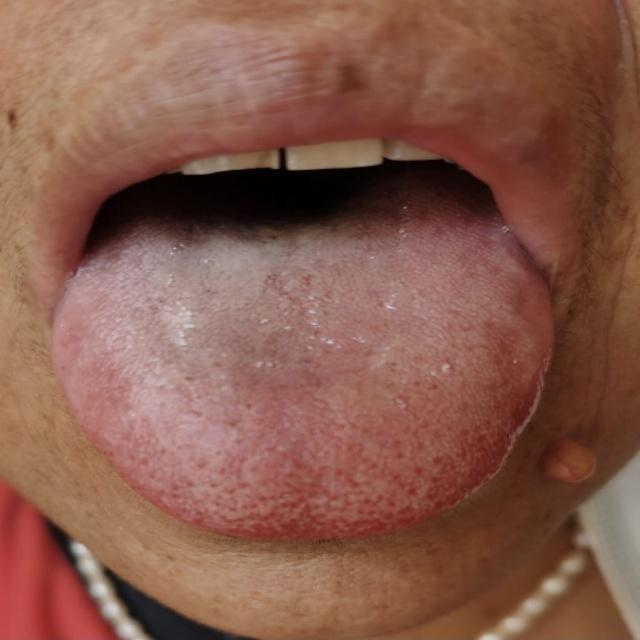baitaishe: (53, 221, 557, 540)
huataishe: (214, 294, 404, 381)
pangdashe: (52, 221, 556, 540)
